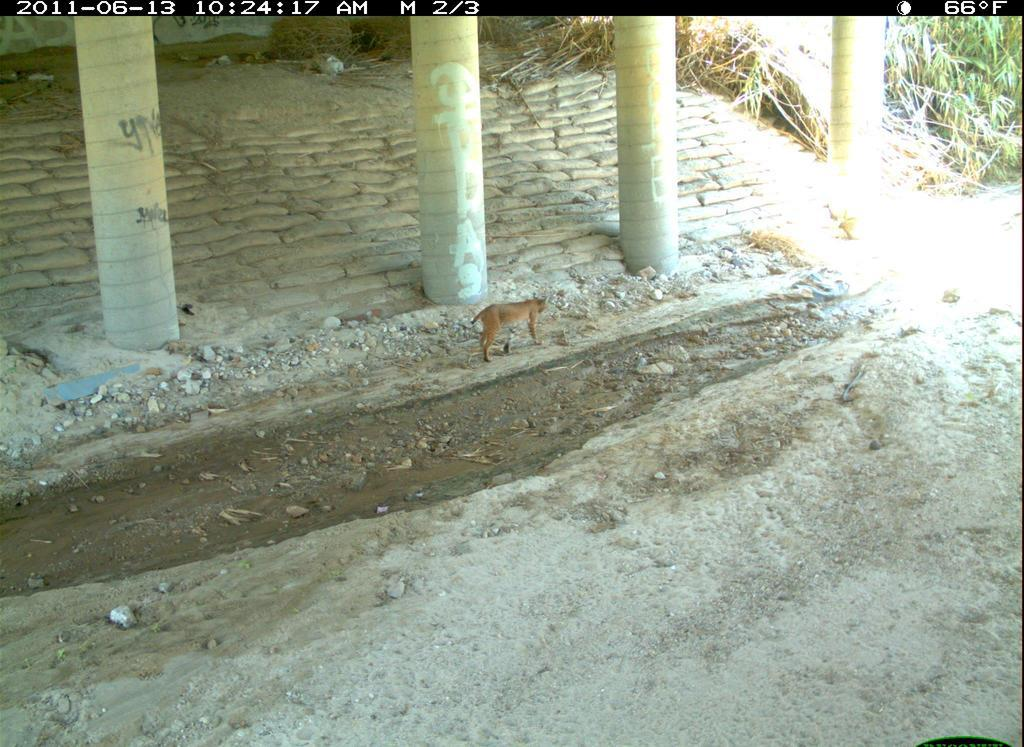bobcat: (937, 574, 1024, 733)
